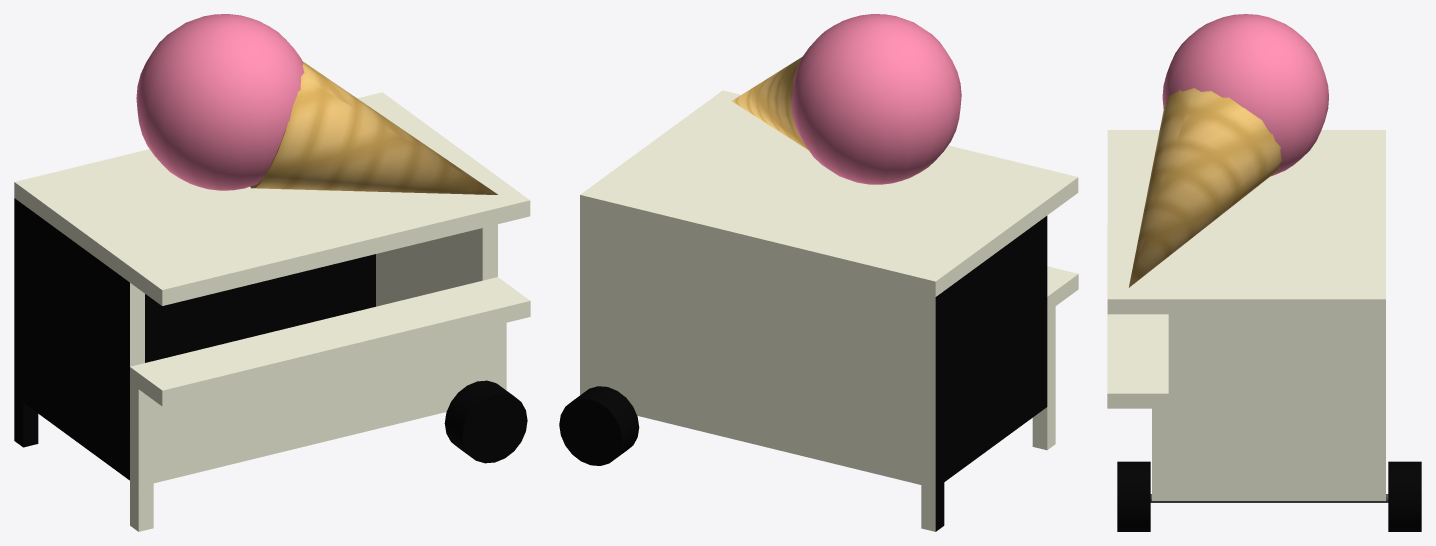
File: EN_IcecreamStand.fbx
3 renders of one model, left to right at view 1: azimuth 30°, elevation 25°; view 2: azimuth 150°, elevation 25°; view 3: azimuth 270°, elevation 25°, orthographic. The views are drawn at different scales.
Parts seen in each view (by area): view 1: EN_IcecreamStand; view 2: EN_IcecreamStand; view 3: EN_IcecreamStand.
Boxes of the visible parts, left/top/right/bottom form: EN_IcecreamStand: left=14, top=14, right=530, bottom=531; EN_IcecreamStand: left=559, top=14, right=1078, bottom=531; EN_IcecreamStand: left=1107, top=14, right=1421, bottom=531.
Size of the model in its own units: 484 by 549 by 377.
1 material, 1 textured.
